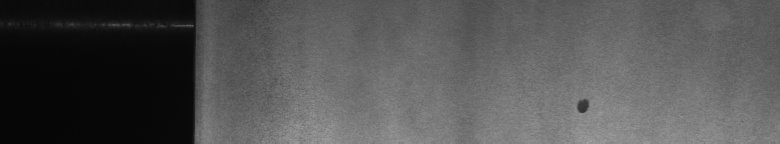fi: (572, 89, 602, 120)
